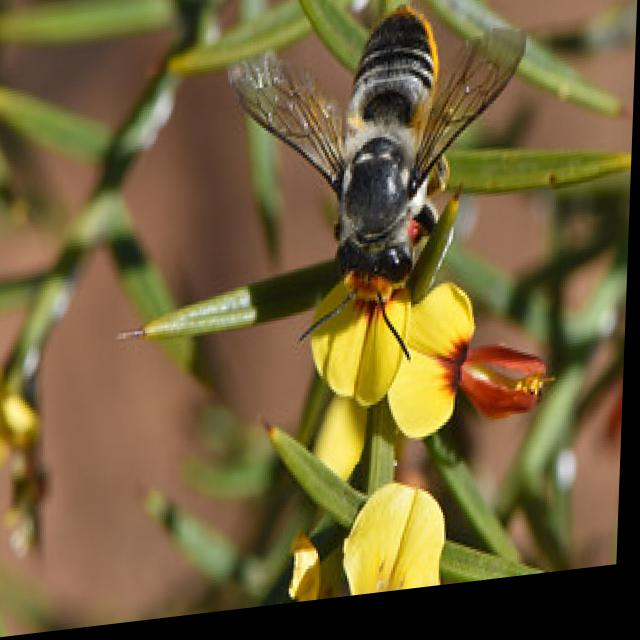Abeille: (213, 0, 548, 407)
